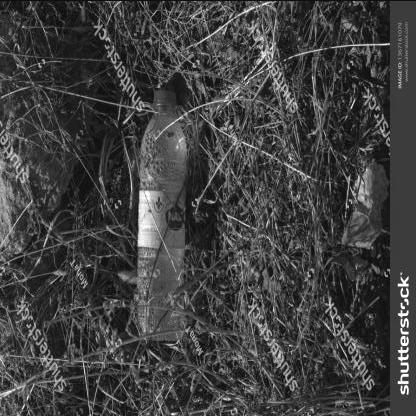bottle: (112, 47, 221, 354)
